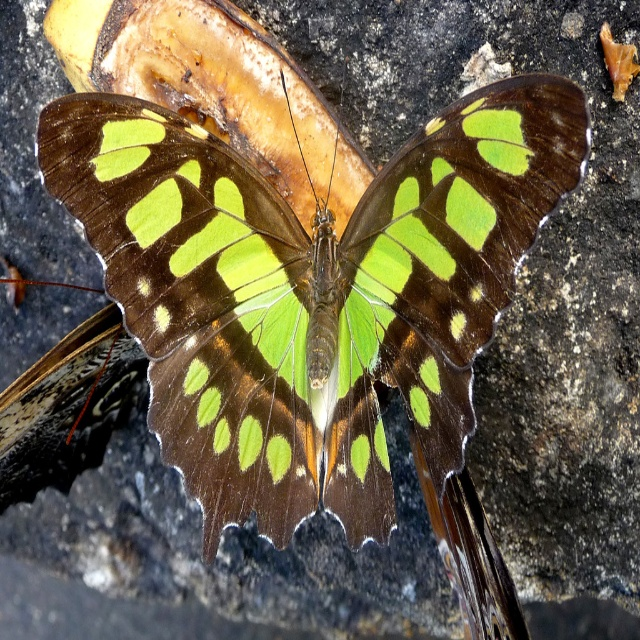Butterfly: (49, 0, 604, 582)
